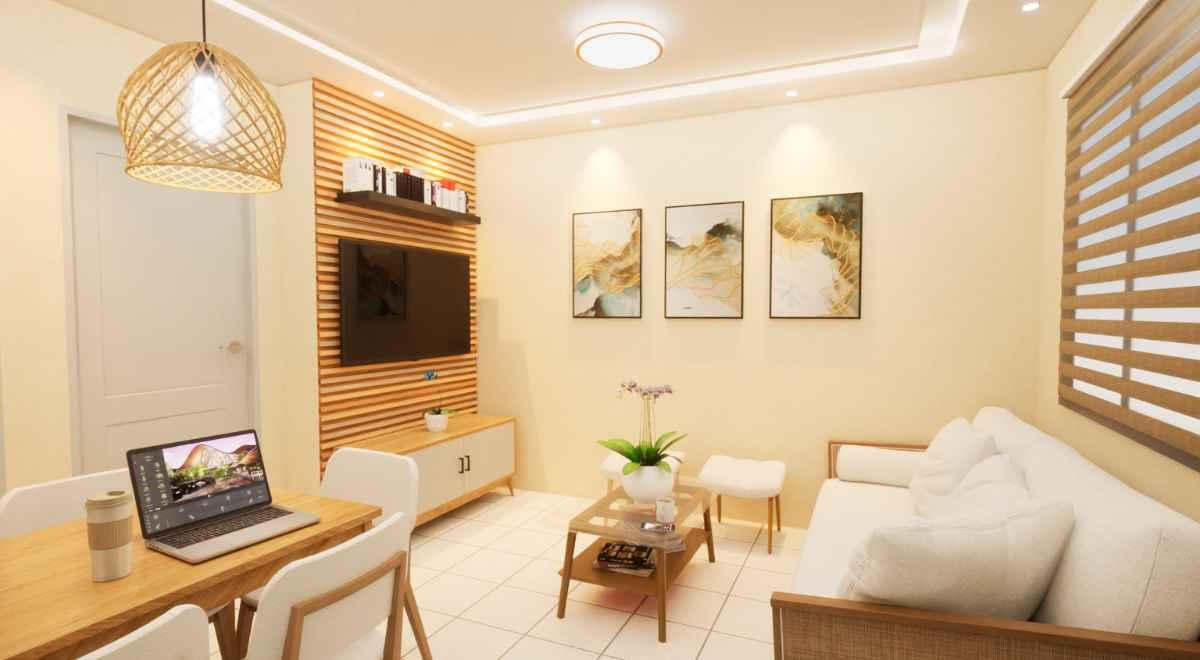controlled_fire: (556, 13, 699, 86), (163, 50, 248, 149)
